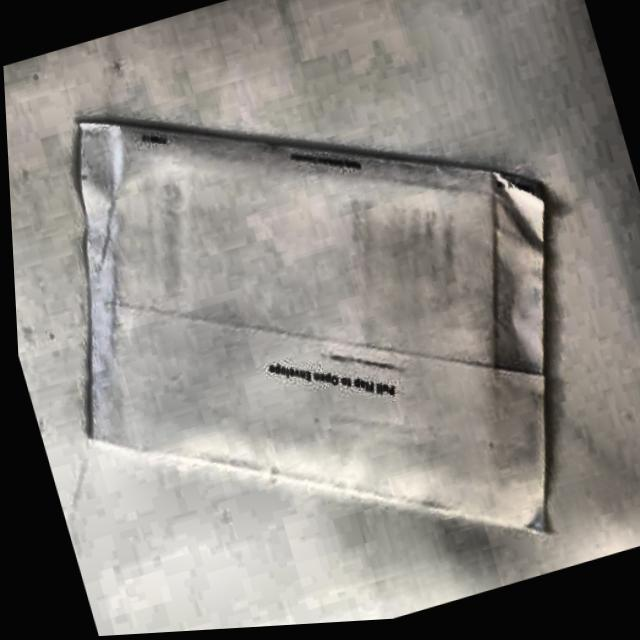Paper: (1, 0, 629, 640)
